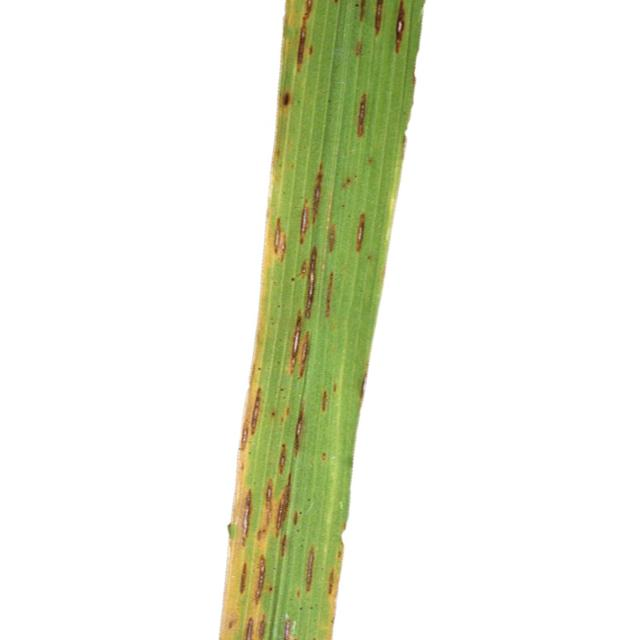Narrow brown: (166, 0, 443, 640)
